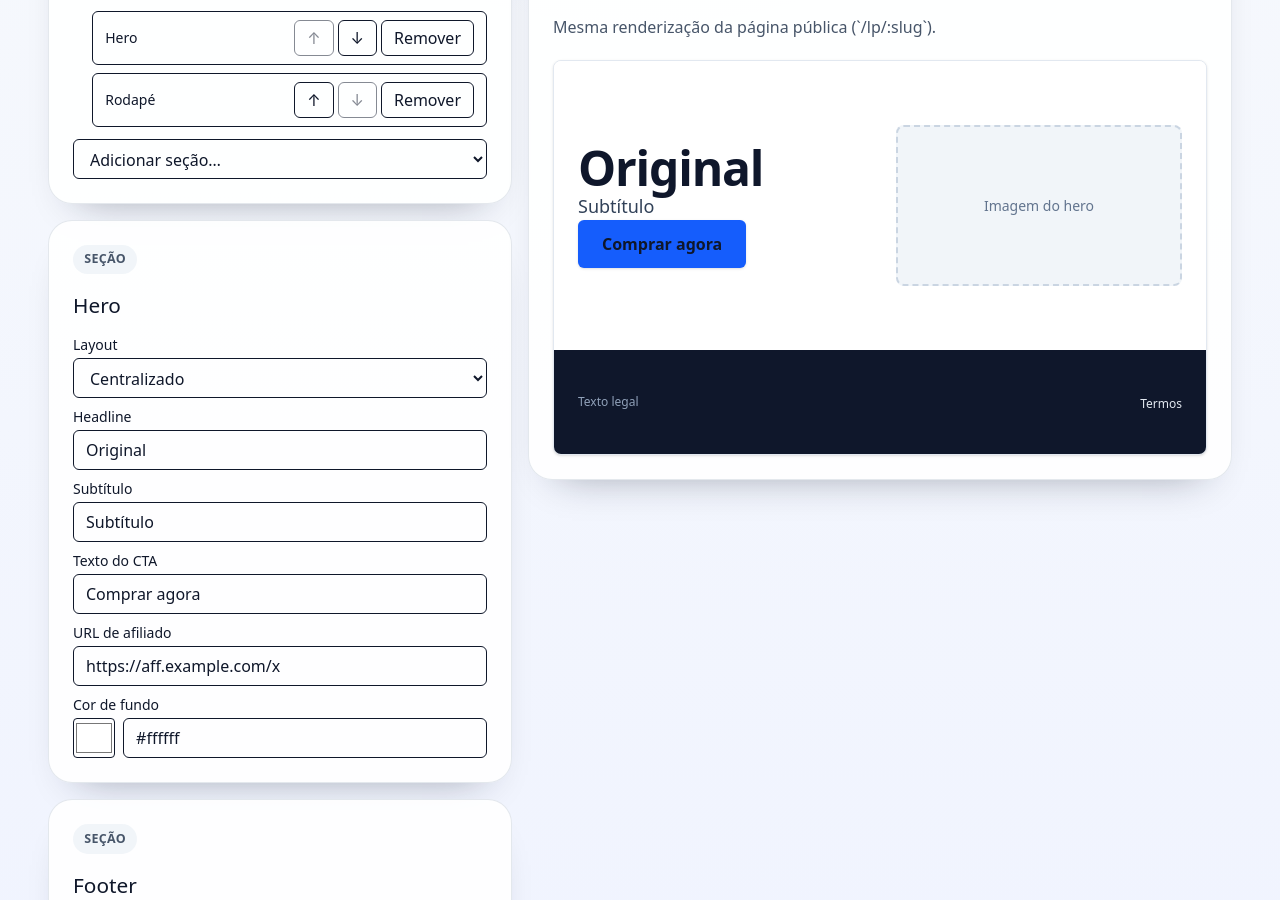
Test: PresellsV2EditPage forms › typing in the Hero headline input updates the preview live
(page scrolled)
Replace the text in the field labelled "Headline" with "Novo Headline": point(280, 450) [73,430,487,470]
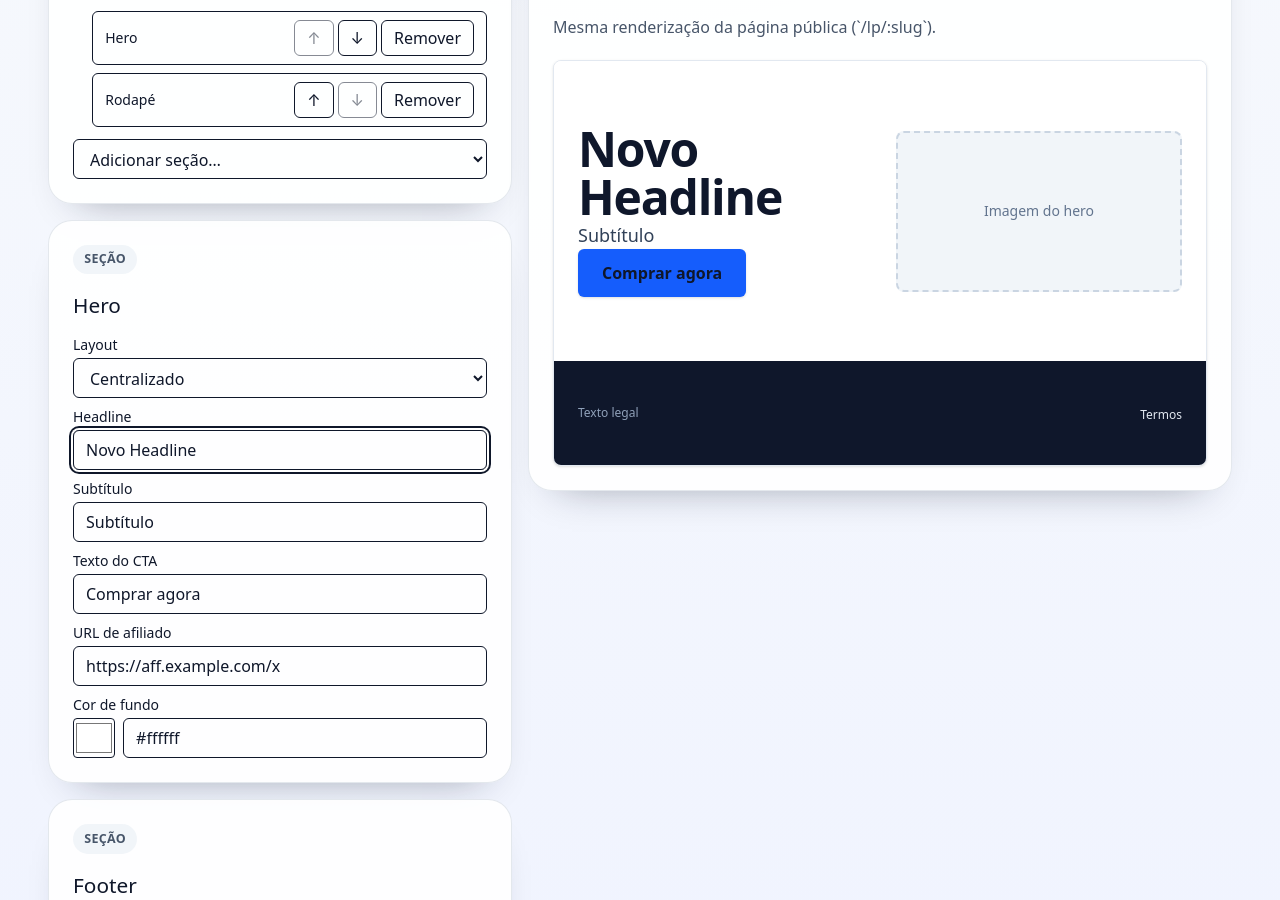
Expected: the heading "Novo Headline" is shown, [578,116,782,229]
